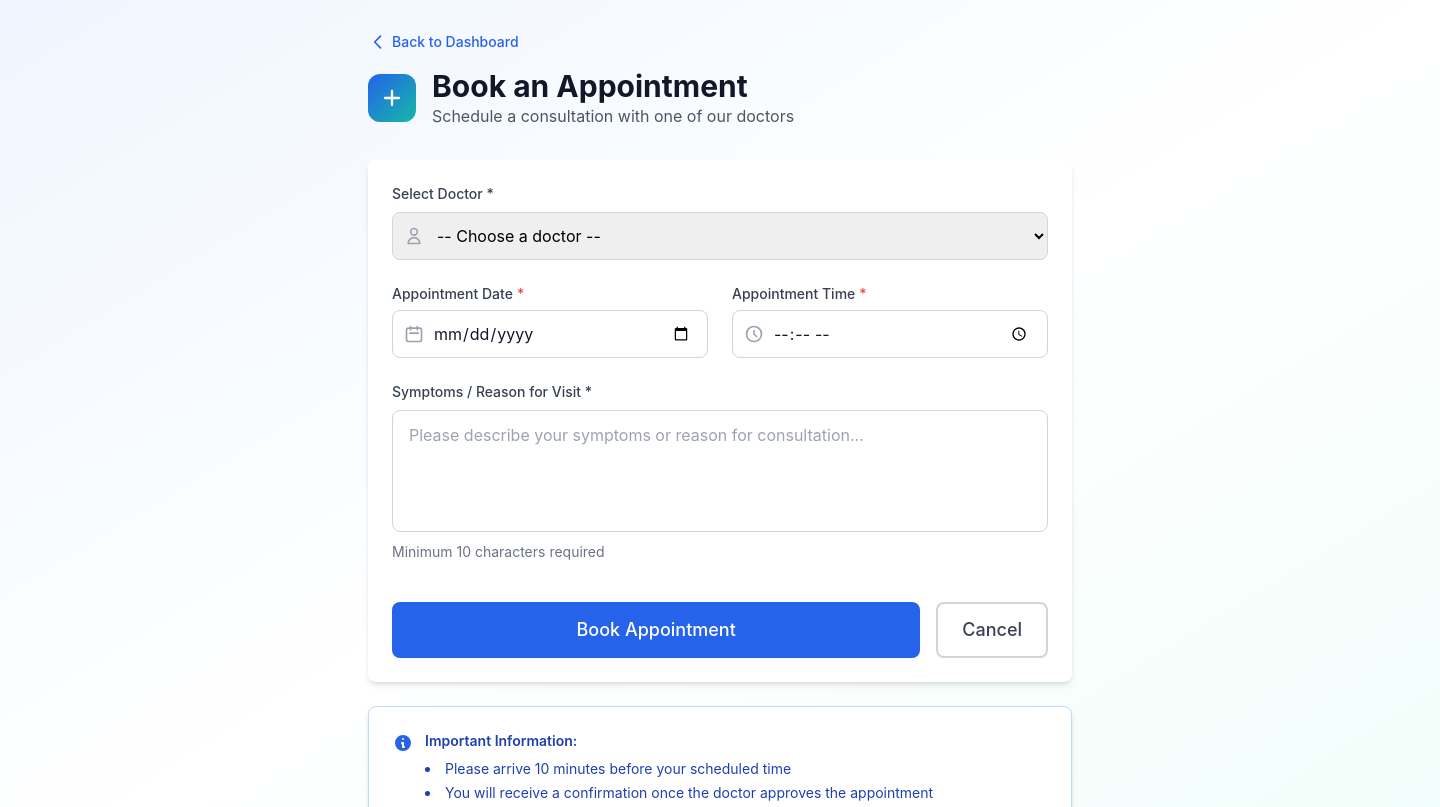
Test: BookAppointment Component › validates required fields
Expected: the dropdown labelled "Select Doctor *" is shown, [392,212,1048,260]
Click the button "Book Appointment" at (656, 630), box [392,602,920,658]
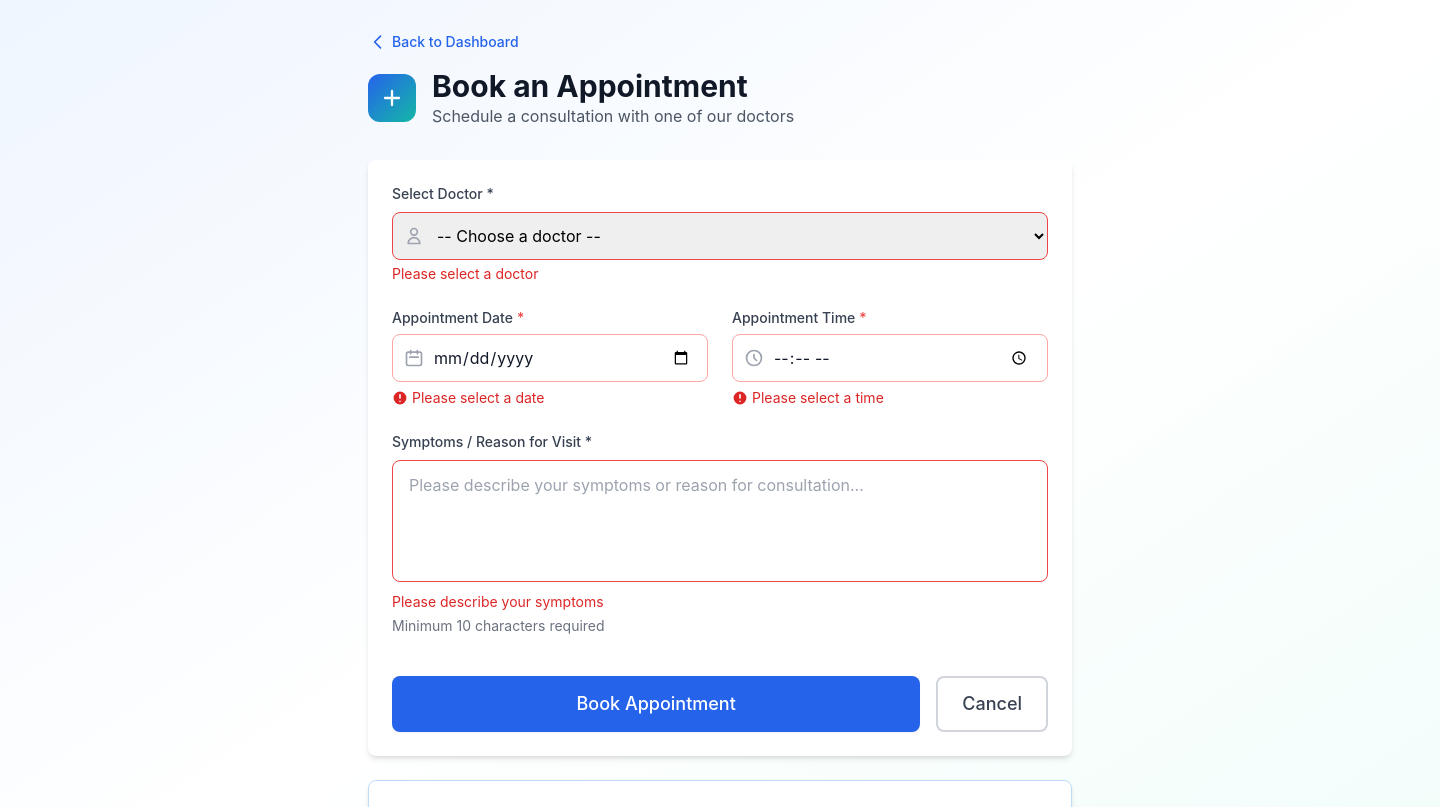
Result: the text "Please select a doctor" is shown at [392,265,538,282]
Result: the text "Please select a date" is shown at [392,389,544,406]
Result: the text "Please select a time" is shown at [732,389,884,406]
